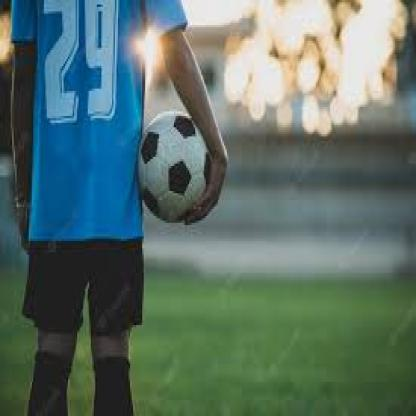ball: (138, 112, 210, 223)
